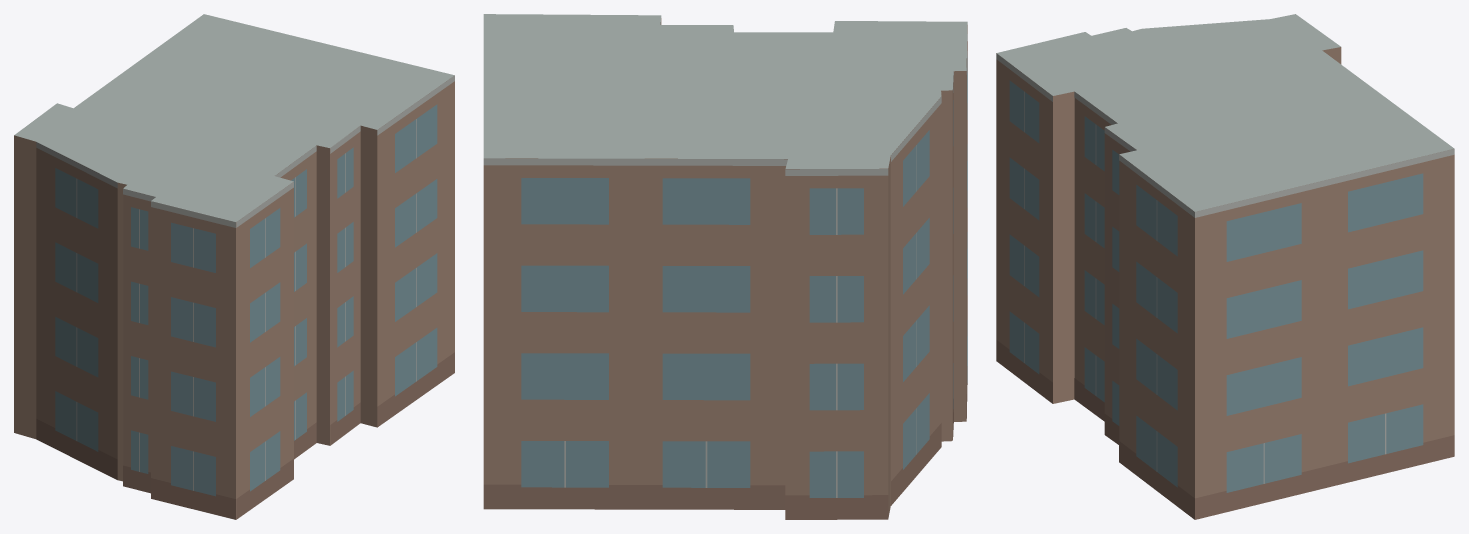
The model's file is survey-upis-32693139.glb.
The picture shows the model from 3 angles, left to right: view 1: azimuth 30°, elevation 25°; view 2: azimuth 150°, elevation 25°; view 3: azimuth 270°, elevation 25°; orthographic projection. The views are drawn at different scales.
Parts seen in each view (by area): view 1: survey-upis-32693139.tmp; view 2: survey-upis-32693139.tmp; view 3: survey-upis-32693139.tmp.
Boxes of the visible parts, left/top/right/bottom form: survey-upis-32693139.tmp: left=14, top=14, right=454, bottom=519; survey-upis-32693139.tmp: left=483, top=14, right=967, bottom=519; survey-upis-32693139.tmp: left=996, top=14, right=1454, bottom=519.
Bounding box in the file's own units: 17.1 × 12.4 × 16.73.
